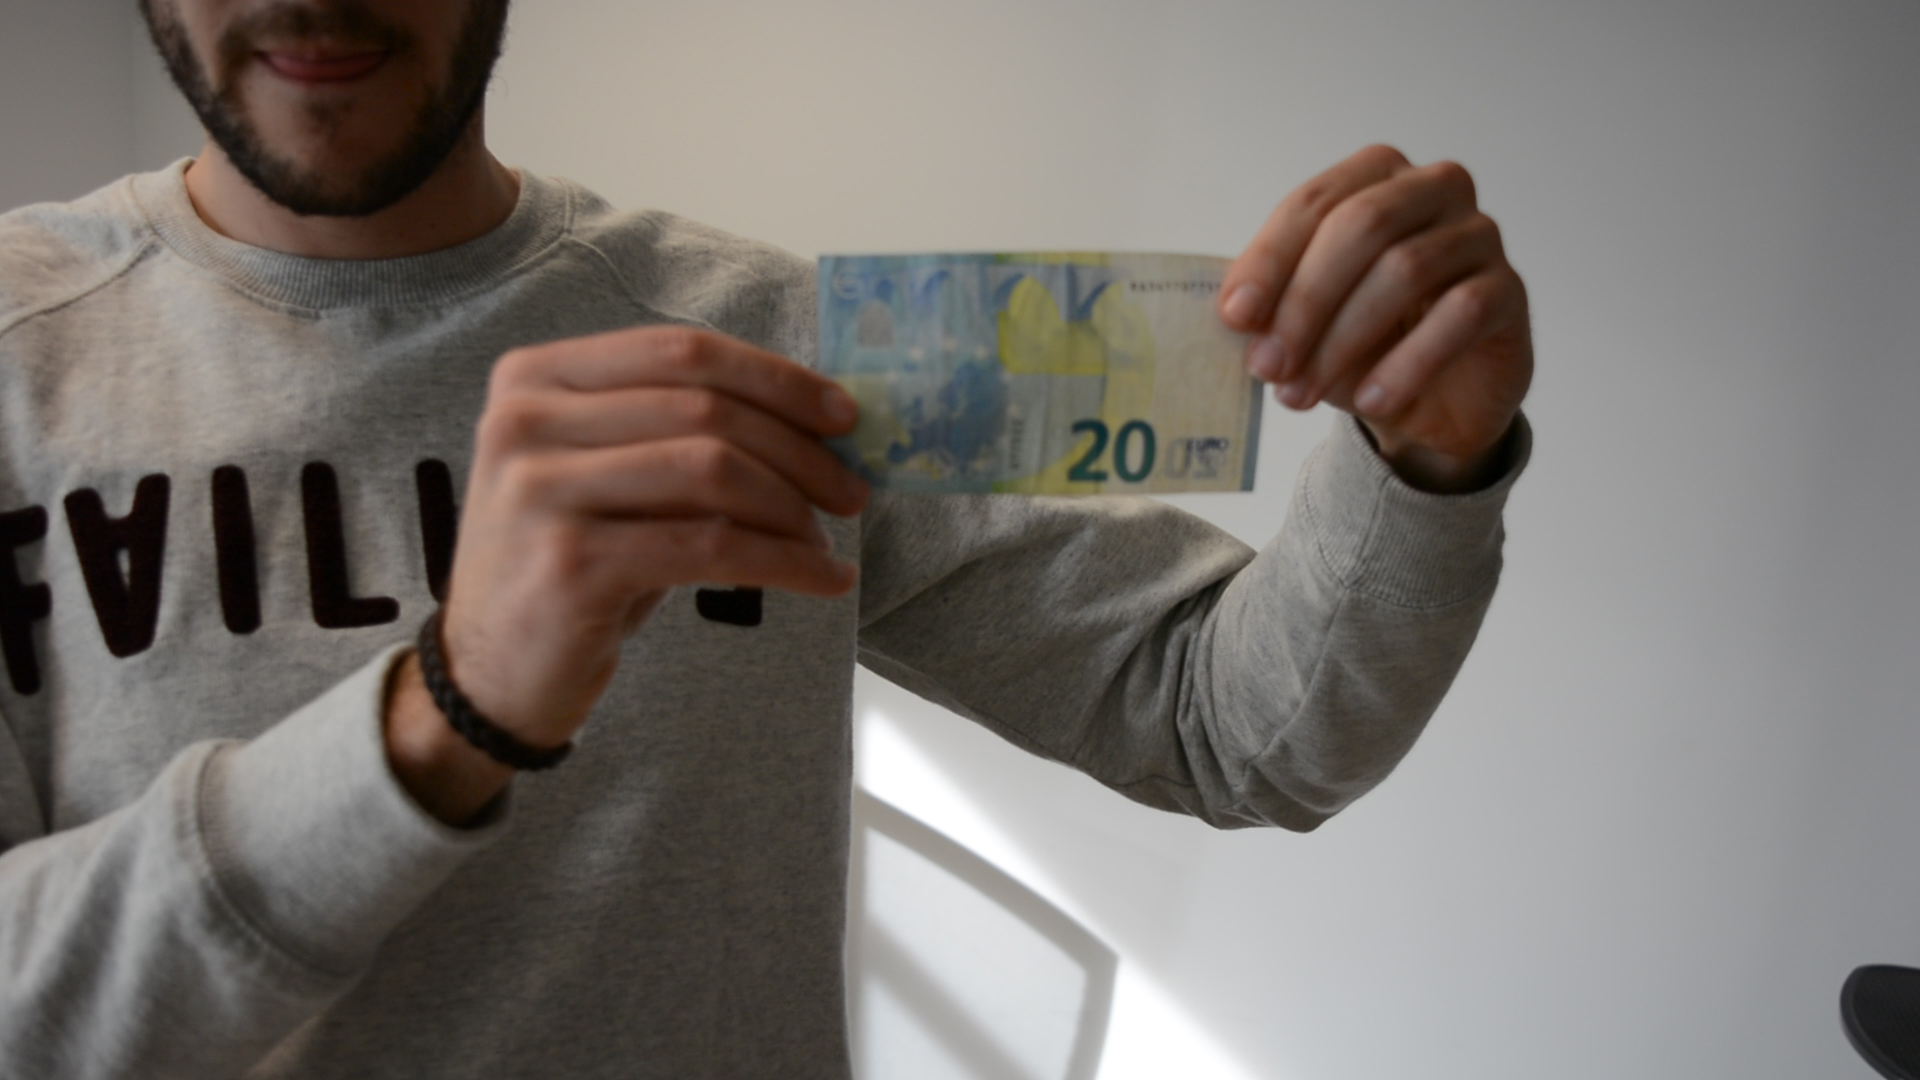billete: (814, 247, 1270, 502)
